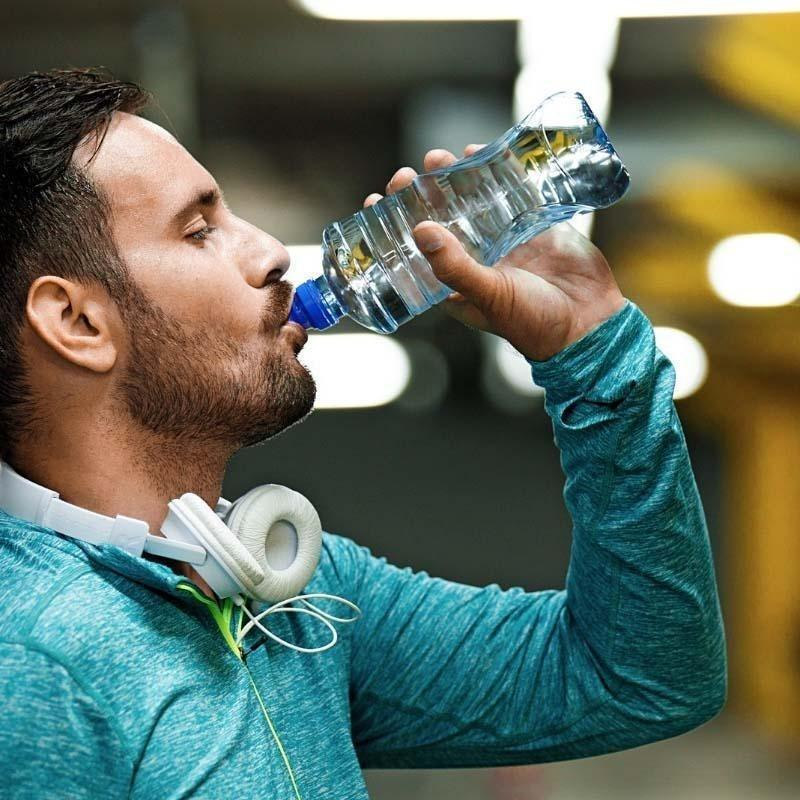bottle-plastic: (291, 87, 633, 335)
